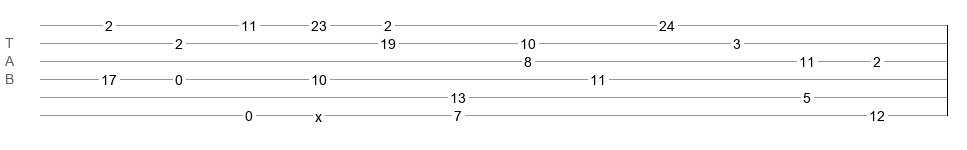0: (175, 72, 183, 82), (245, 108, 253, 118)
10: (311, 72, 327, 82), (520, 36, 536, 46)
11: (241, 18, 257, 28), (590, 72, 606, 82), (799, 54, 815, 64)
12: (869, 108, 885, 118)
13: (450, 90, 466, 100)
17: (101, 72, 117, 82)
19: (380, 36, 396, 46)
2: (105, 18, 113, 28), (175, 36, 183, 46), (384, 18, 392, 28), (873, 54, 881, 64)
23: (311, 18, 327, 28)
24: (659, 18, 675, 28)
3: (733, 36, 741, 46)
5: (803, 90, 811, 100)
7: (454, 108, 462, 118)
8: (524, 54, 532, 64)
x: (315, 109, 322, 117)
